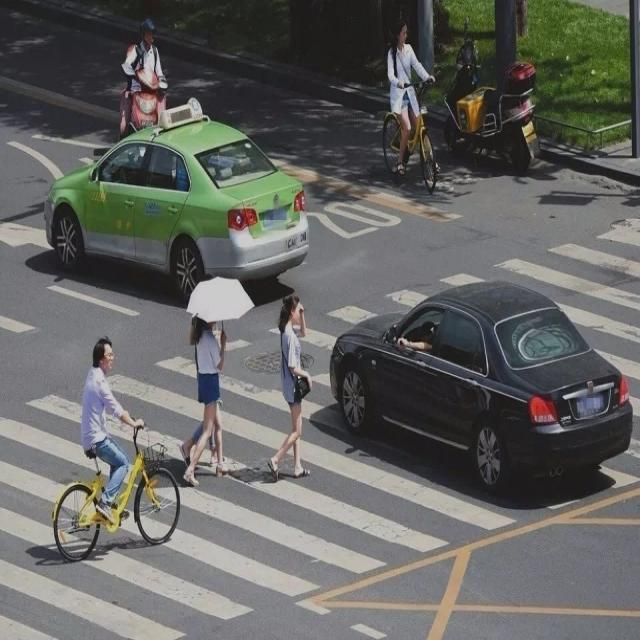non-fight: (81, 336, 142, 526), (184, 319, 228, 487), (277, 292, 312, 481)
